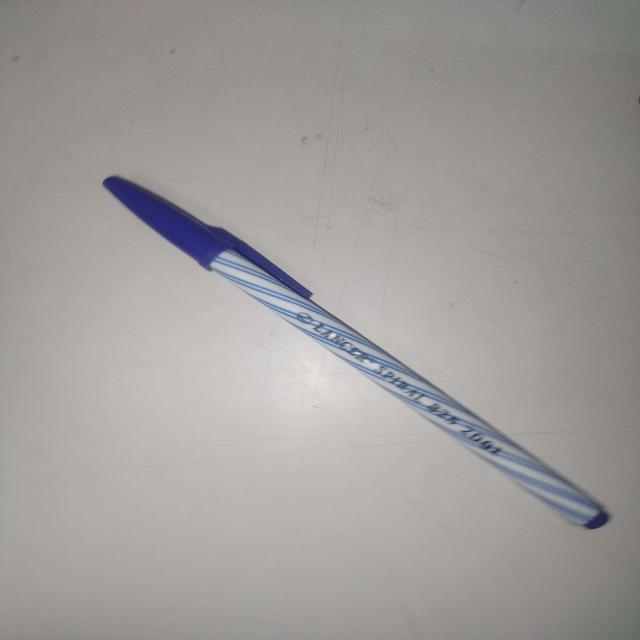pen_pencil: (81, 158, 618, 566)
